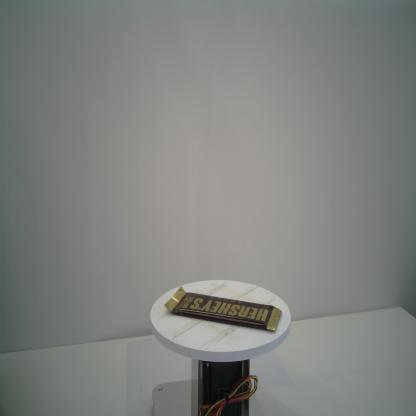Chocolate: (164, 284, 282, 332)
